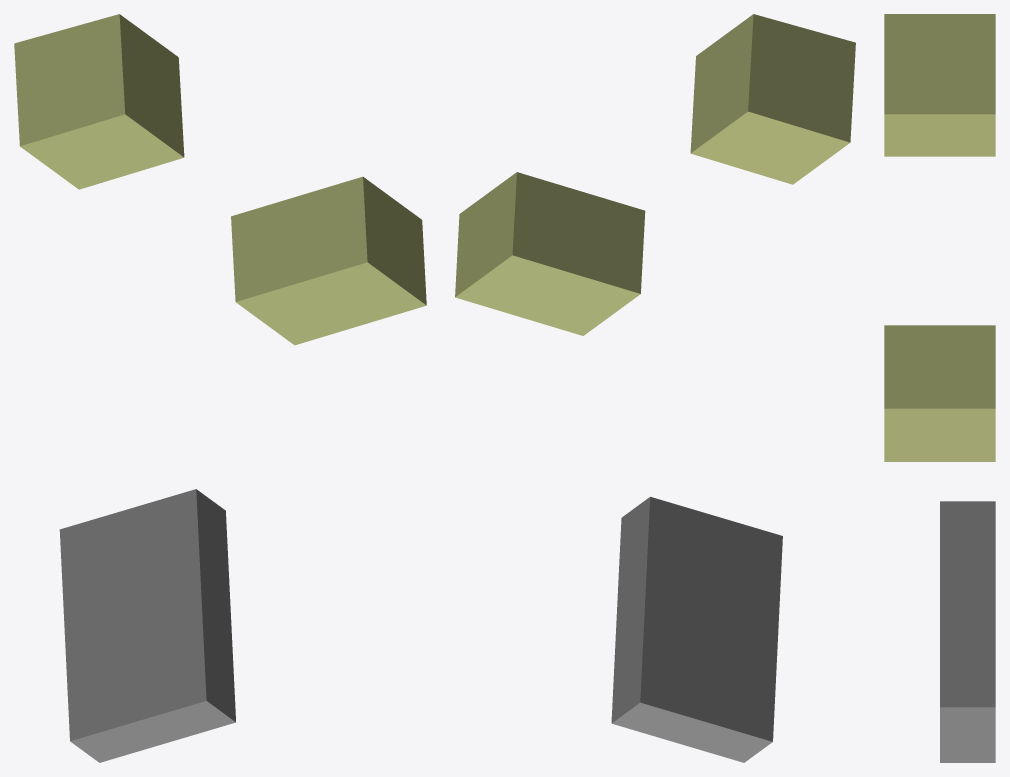
3 renders of one model, left to right at view 1: azimuth 30°, elevation 25°; view 2: azimuth 150°, elevation 25°; view 3: azimuth 270°, elevation 25°, orthographic. The views are drawn at different scales.
Parts seen in each view (by area): view 1: 0_3_1_3_3_2_2_2_1; view 2: 0_3_1_3_3_2_2_2_1; view 3: 0_3_1_3_3_2_2_2_1.
Boxes of the visible parts, x1,y1,x2,y2 form: 0_3_1_3_3_2_2_2_1: (14,14,426,762); 0_3_1_3_3_2_2_2_1: (455,14,855,762); 0_3_1_3_3_2_2_2_1: (884,14,995,762).
Size of the model in its own units: 20.68 by 39.99 by 6.
